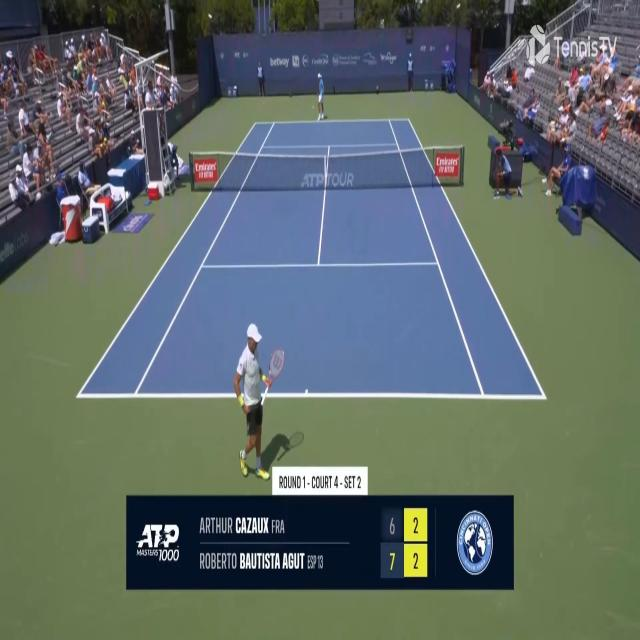tennis-player: (232, 319, 296, 480), (314, 70, 326, 122)
